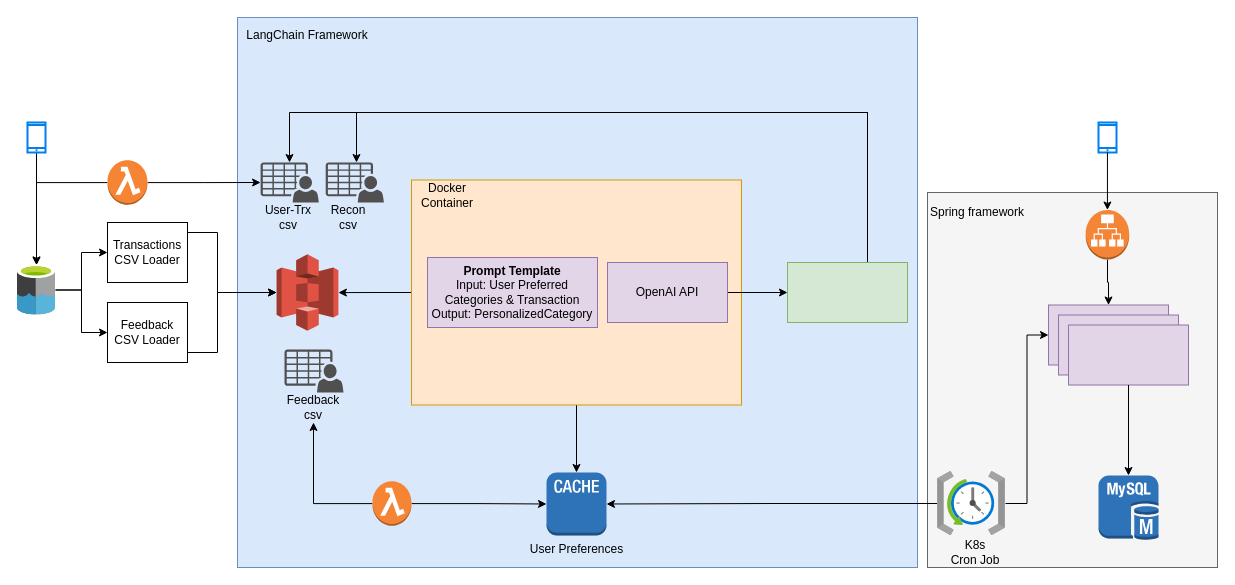
Image size: 1235x585. Some labels were removed from this diagram. Here are the shapes that lost their labels. From the top down, the box of each, then its label:
(786, 262, 908, 322): LLM (GPT-4o)
(1068, 324, 1188, 385): User Feedback CRUD API's
